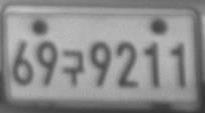1: (142, 40, 166, 87), (169, 41, 191, 87)
2: (116, 40, 139, 87)
6: (11, 40, 34, 85)
9: (89, 40, 111, 87), (36, 39, 58, 85)
구: (60, 49, 85, 86)
